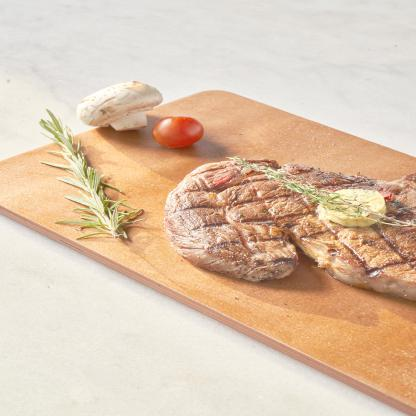Carne: (164, 154, 415, 282)
